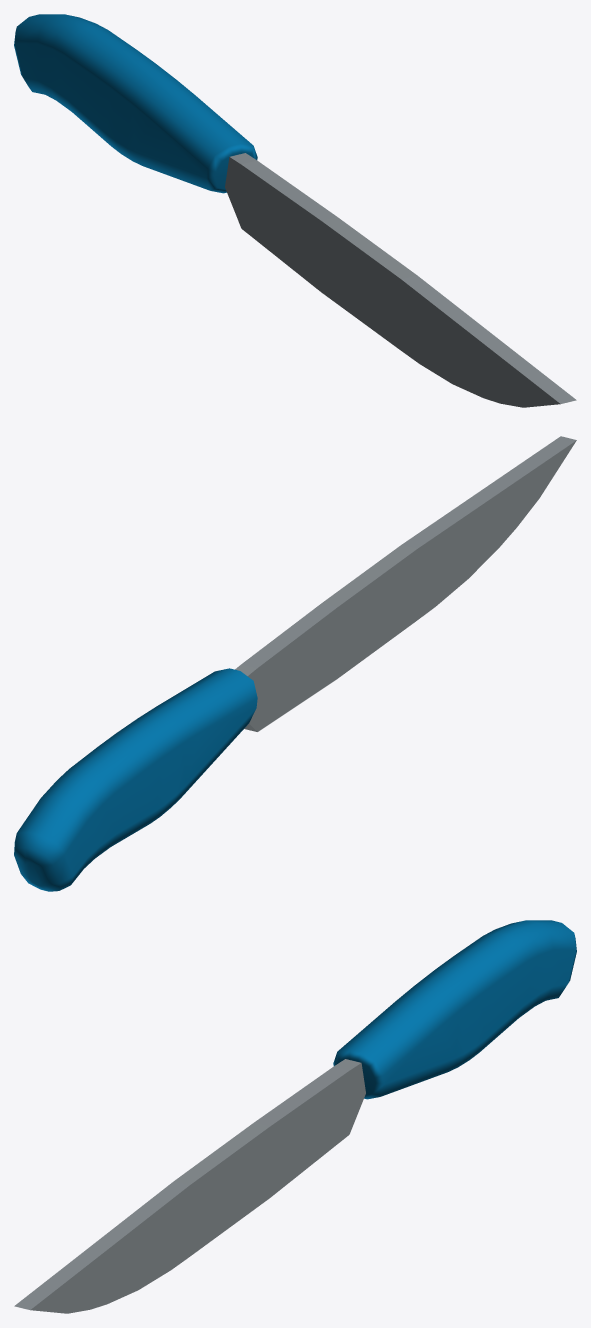
The model's file is SM_knife_2.fbx.
The picture shows the model from 3 angles, top to bottom: view 1: azimuth 30°, elevation 25°; view 2: azimuth 150°, elevation 25°; view 3: azimuth 330°, elevation 25°; orthographic projection.
Visible parts, largest first — view 1: SM_knife_2; view 2: SM_knife_2; view 3: SM_knife_2.
Boxes of the visible parts, x1,y1,x2,y2 form: SM_knife_2: [14, 14, 576, 407]; SM_knife_2: [14, 436, 576, 891]; SM_knife_2: [14, 920, 576, 1313].
Size of the model in its own units: 4.16 by 7.32 by 77.23.
